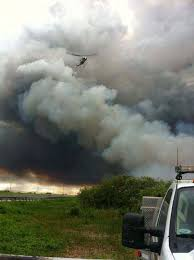smoke: (1, 2, 192, 170)
